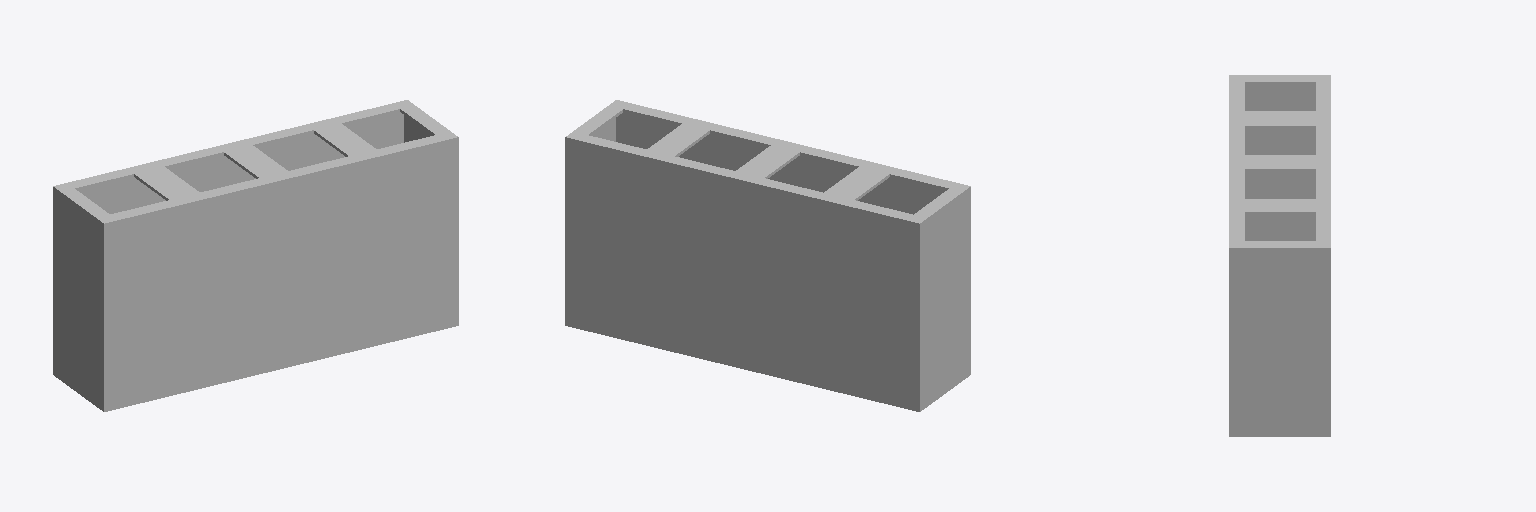
Rendered from station.obj.
The picture shows the model from 3 angles: view 1: azimuth 30°, elevation 25°; view 2: azimuth 150°, elevation 25°; view 3: azimuth 270°, elevation 25°; orthographic projection.
Visible parts, largest first — view 1: station_Cube.004; view 2: station_Cube.004; view 3: station_Cube.004.
Part boxes in pixels (x1,y1,x2,y2): station_Cube.004: (53,100,458,411); station_Cube.004: (565,100,970,411); station_Cube.004: (1229,75,1330,436).
Bounding box in the file's own units: 12.01 × 6.1 × 3.